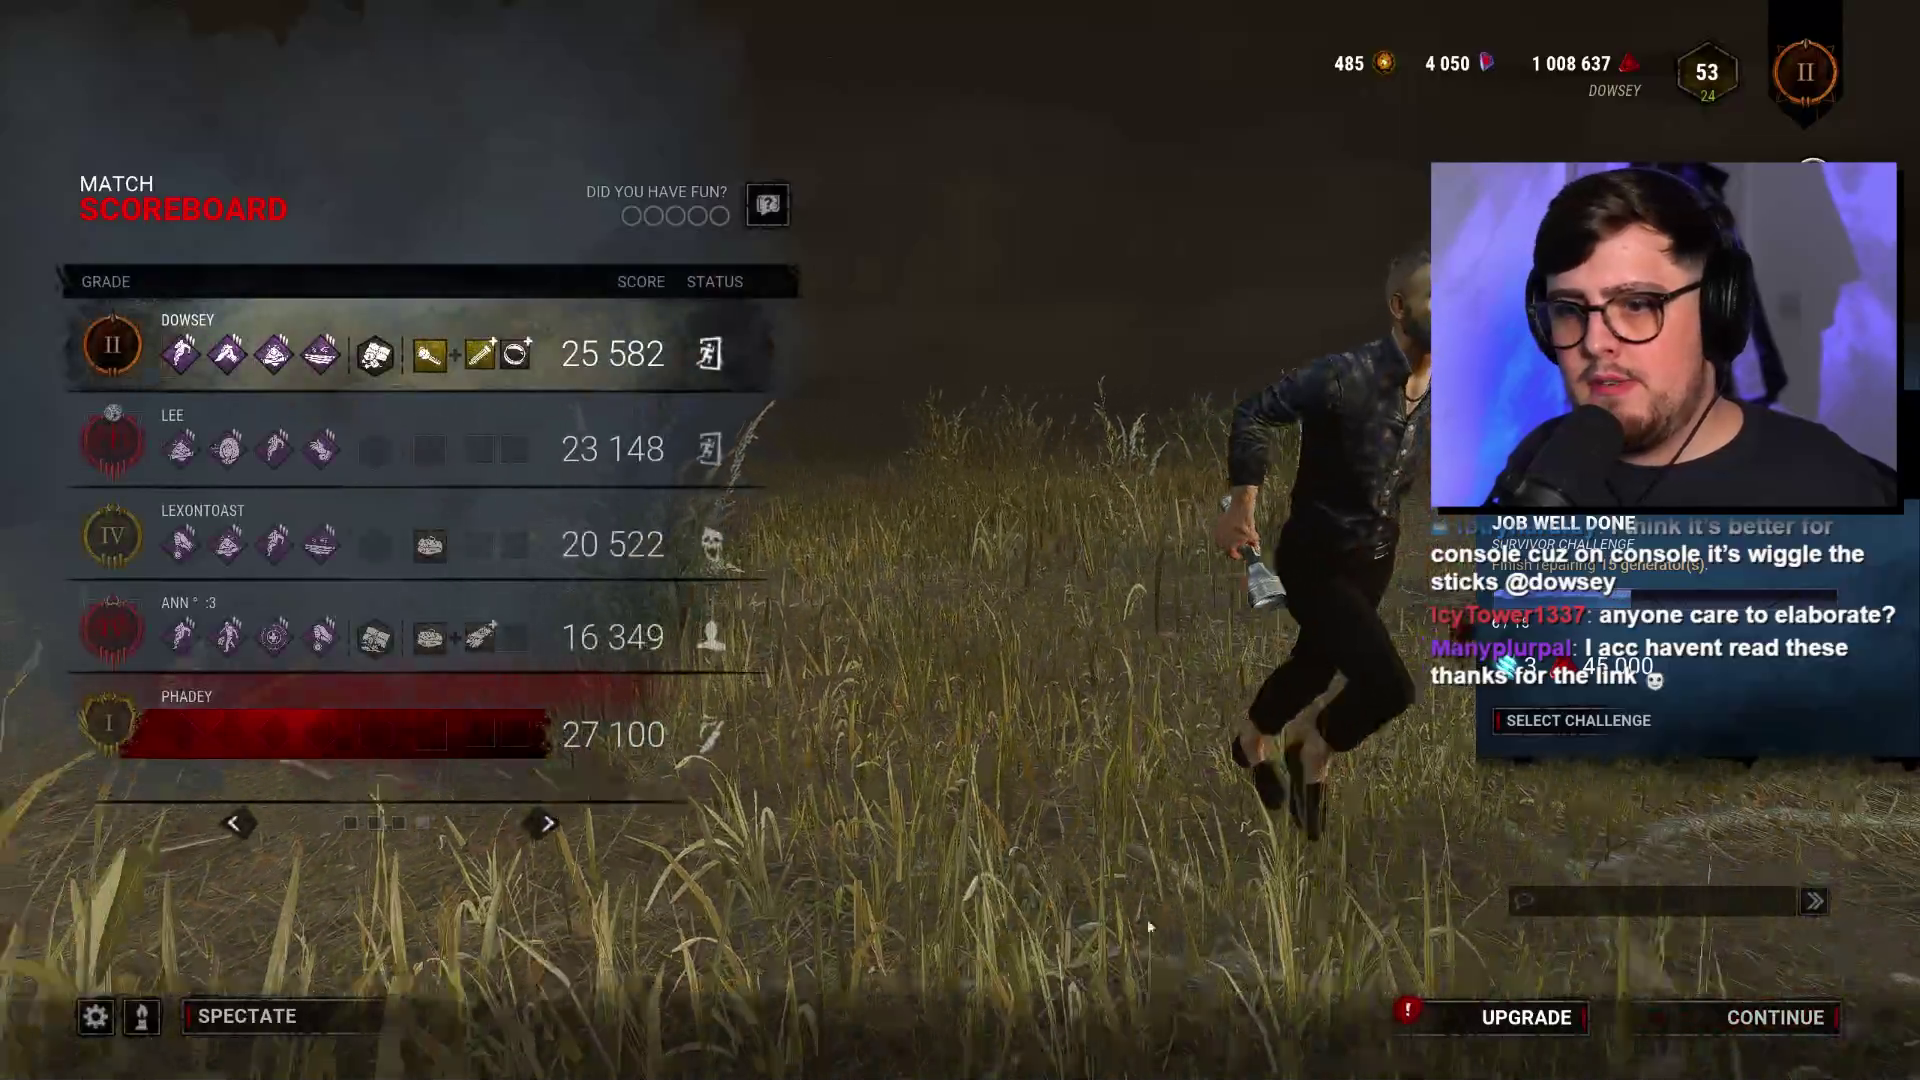ace_in_the_hole: (298, 429, 342, 469)
alert: (204, 429, 248, 469)
borrowed_time: (298, 617, 342, 658), (158, 524, 200, 564)
circle_of_healing: (251, 617, 294, 658)
dead_hard: (252, 429, 295, 469), (252, 524, 295, 564), (160, 334, 202, 375), (158, 617, 200, 658)
decisive_strike: (204, 334, 248, 375)
iron_will: (252, 334, 295, 375), (204, 524, 248, 564), (158, 429, 200, 469)
were_gonna_live_forever: (204, 617, 248, 658)
windows_of_opportunity: (298, 334, 342, 375), (298, 524, 342, 564)
